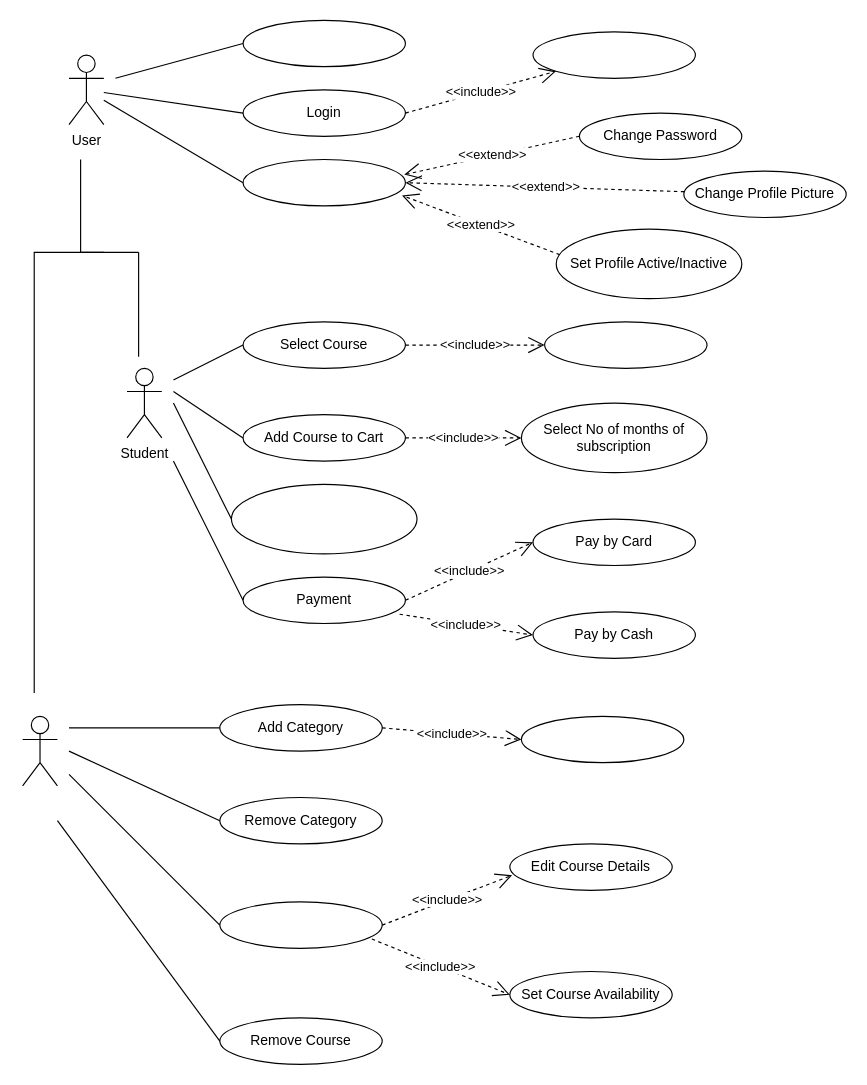
Image size: 867x1085. Some labels were removed from this diagram. Each missing label, with the centre of its shape:
"Add Course" goes at point 300,924.
"Admin" goes at point 39,750.
"Check Password" goes at point 613,54.
"Create Account" goes at point 323,43.
"Edit Category Details" goes at point 602,739.
"Remove Course from Cart" goes at point 323,518.
"Update Profile" goes at point 323,182.
"View Course Details" goes at point 625,344.
